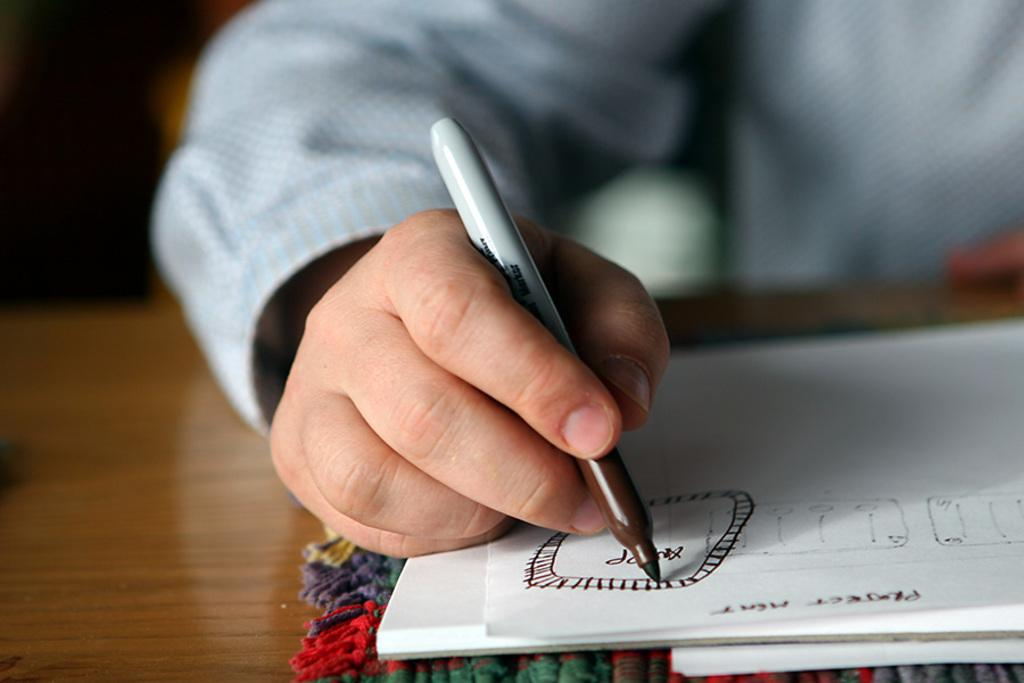pen: (428, 115, 669, 586)
